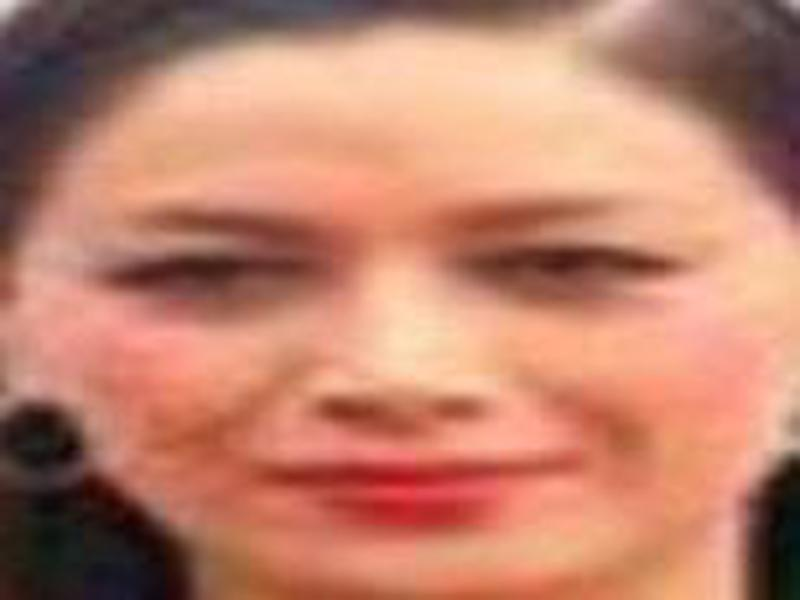without_mask: (38, 78, 765, 572)
